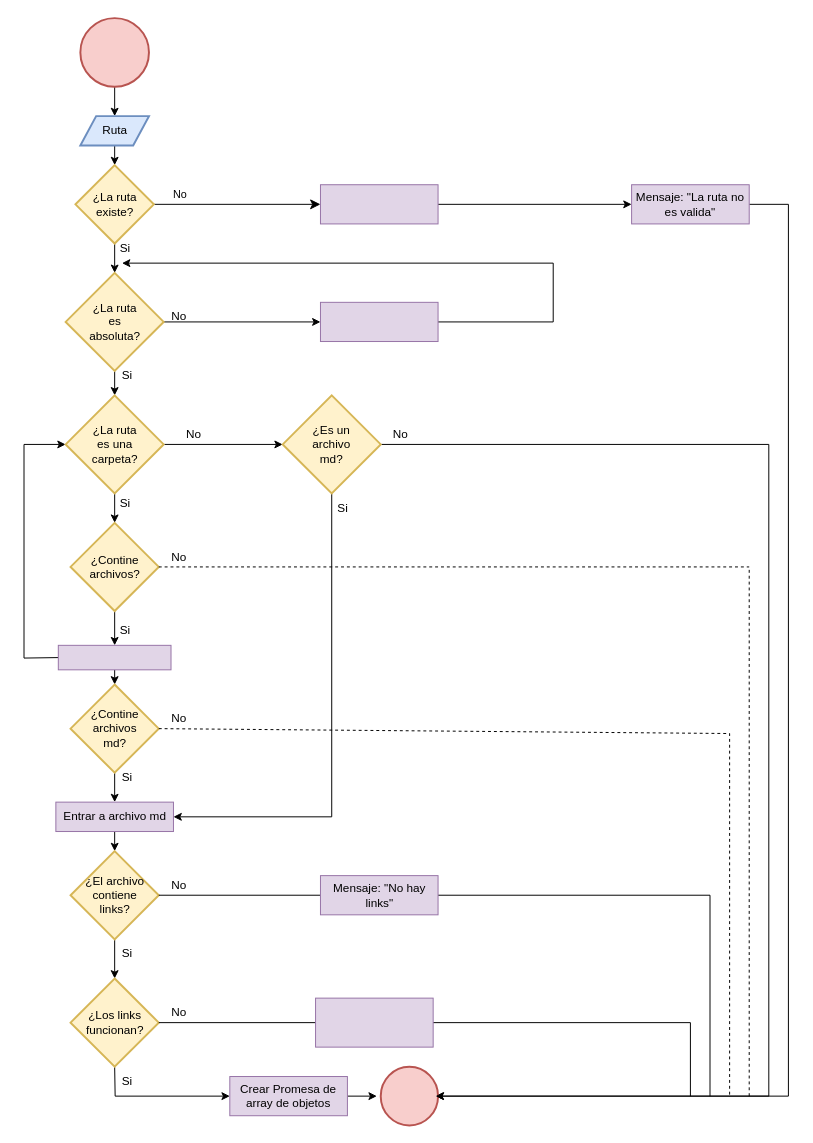
The diagram is 813 pixels wide and 1143 high, and some of its shapes have lost their labels. Each missing label, with the centre of its shape:
Convertir a ruta absoluta: [378,321]
Fin: [409,1095]
Inicio mdLinks: [114,52]
La ruta no existe: [378,204]
Leer el directorio: [114,657]
Separarlo para contabilizar (estadisticas): [374,1022]
